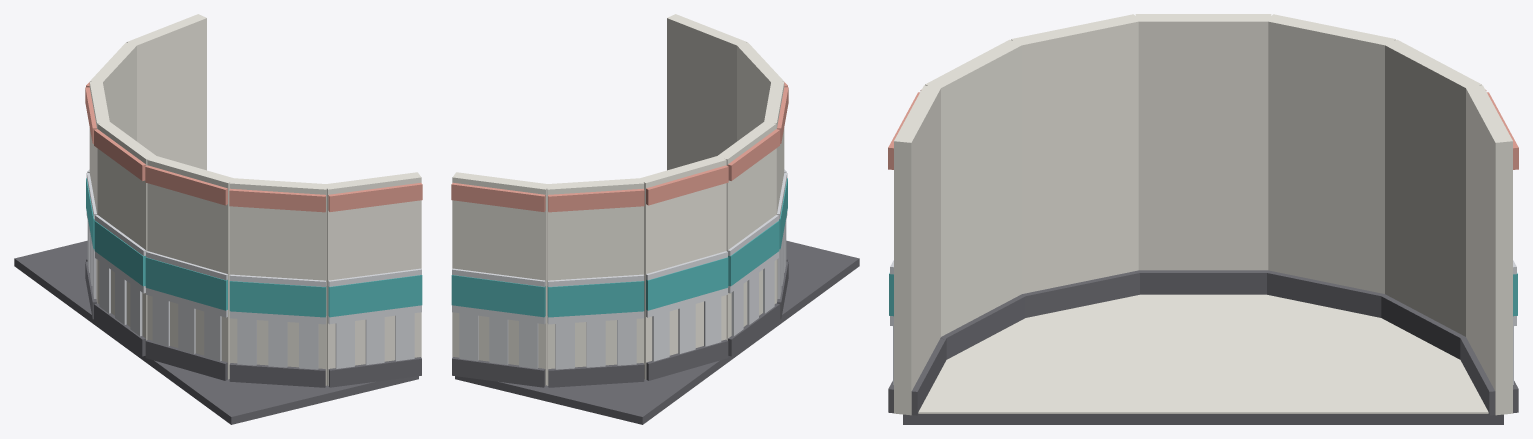
The model's file is retro-diner-and-roadside-motel-diner-car-curved-end-e47d6601__37315.glb.
The picture shows the model from 3 angles, left to right: view 1: azimuth 30°, elevation 25°; view 2: azimuth 150°, elevation 25°; view 3: azimuth 270°, elevation 25°; orthographic projection. The views are drawn at different scales.
Visible parts, largest first — view 1: diner-car-curved-end-cream, diner-car-curved-end-asphalt, diner-car-curved-end-chrome, diner-car-curved-end-turquoise, diner-car-curved-end-coral; view 2: diner-car-curved-end-cream, diner-car-curved-end-asphalt, diner-car-curved-end-chrome, diner-car-curved-end-turquoise, diner-car-curved-end-coral; view 3: diner-car-curved-end-cream, diner-car-curved-end-asphalt, diner-car-curved-end-coral.
Boxes of the visible parts, left/top/right/bottom form: diner-car-curved-end-cream: left=89, top=14, right=421, bottom=385; diner-car-curved-end-asphalt: left=14, top=240, right=421, bottom=424; diner-car-curved-end-chrome: left=86, top=169, right=421, bottom=369; diner-car-curved-end-turquoise: left=86, top=178, right=422, bottom=317; diner-car-curved-end-coral: left=85, top=82, right=422, bottom=212; diner-car-curved-end-cream: left=452, top=14, right=784, bottom=385; diner-car-curved-end-asphalt: left=452, top=240, right=859, bottom=424; diner-car-curved-end-chrome: left=452, top=169, right=787, bottom=369; diner-car-curved-end-turquoise: left=451, top=178, right=787, bottom=317; diner-car-curved-end-coral: left=451, top=82, right=788, bottom=212; diner-car-curved-end-cream: left=894, top=14, right=1512, bottom=415; diner-car-curved-end-asphalt: left=888, top=270, right=1518, bottom=424; diner-car-curved-end-coral: left=888, top=89, right=1518, bottom=169.
Size of the model in its own units: 3.11 by 3.12 by 6.29.
